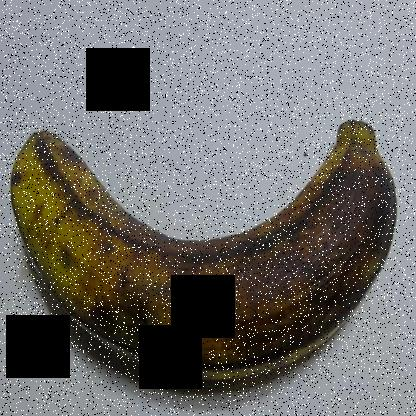overripe: (6, 89, 404, 415)
